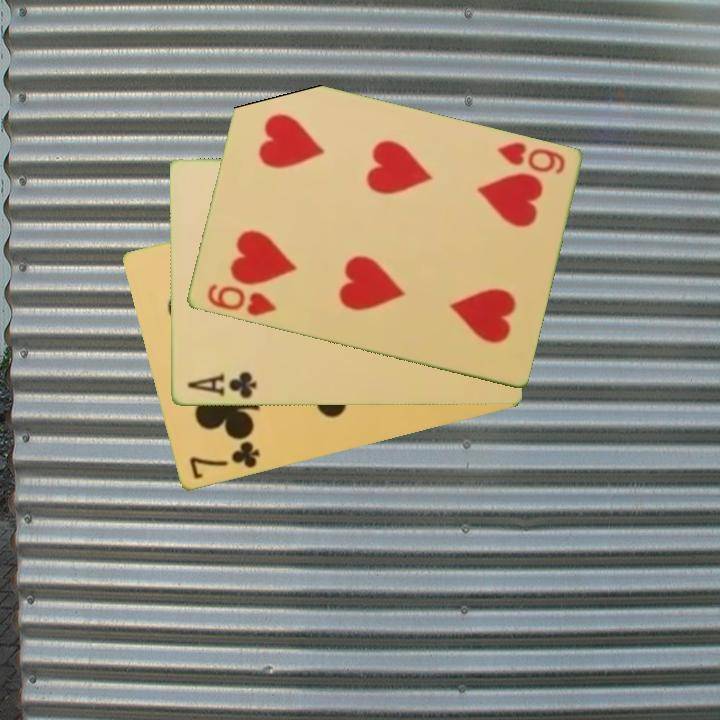6h: (203, 280, 279, 319), (493, 138, 568, 177)
7c: (185, 438, 263, 483)
Ac: (183, 369, 259, 402)
